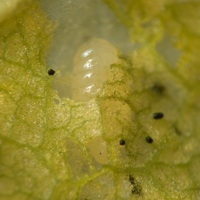insect: (48, 69, 54, 74)
